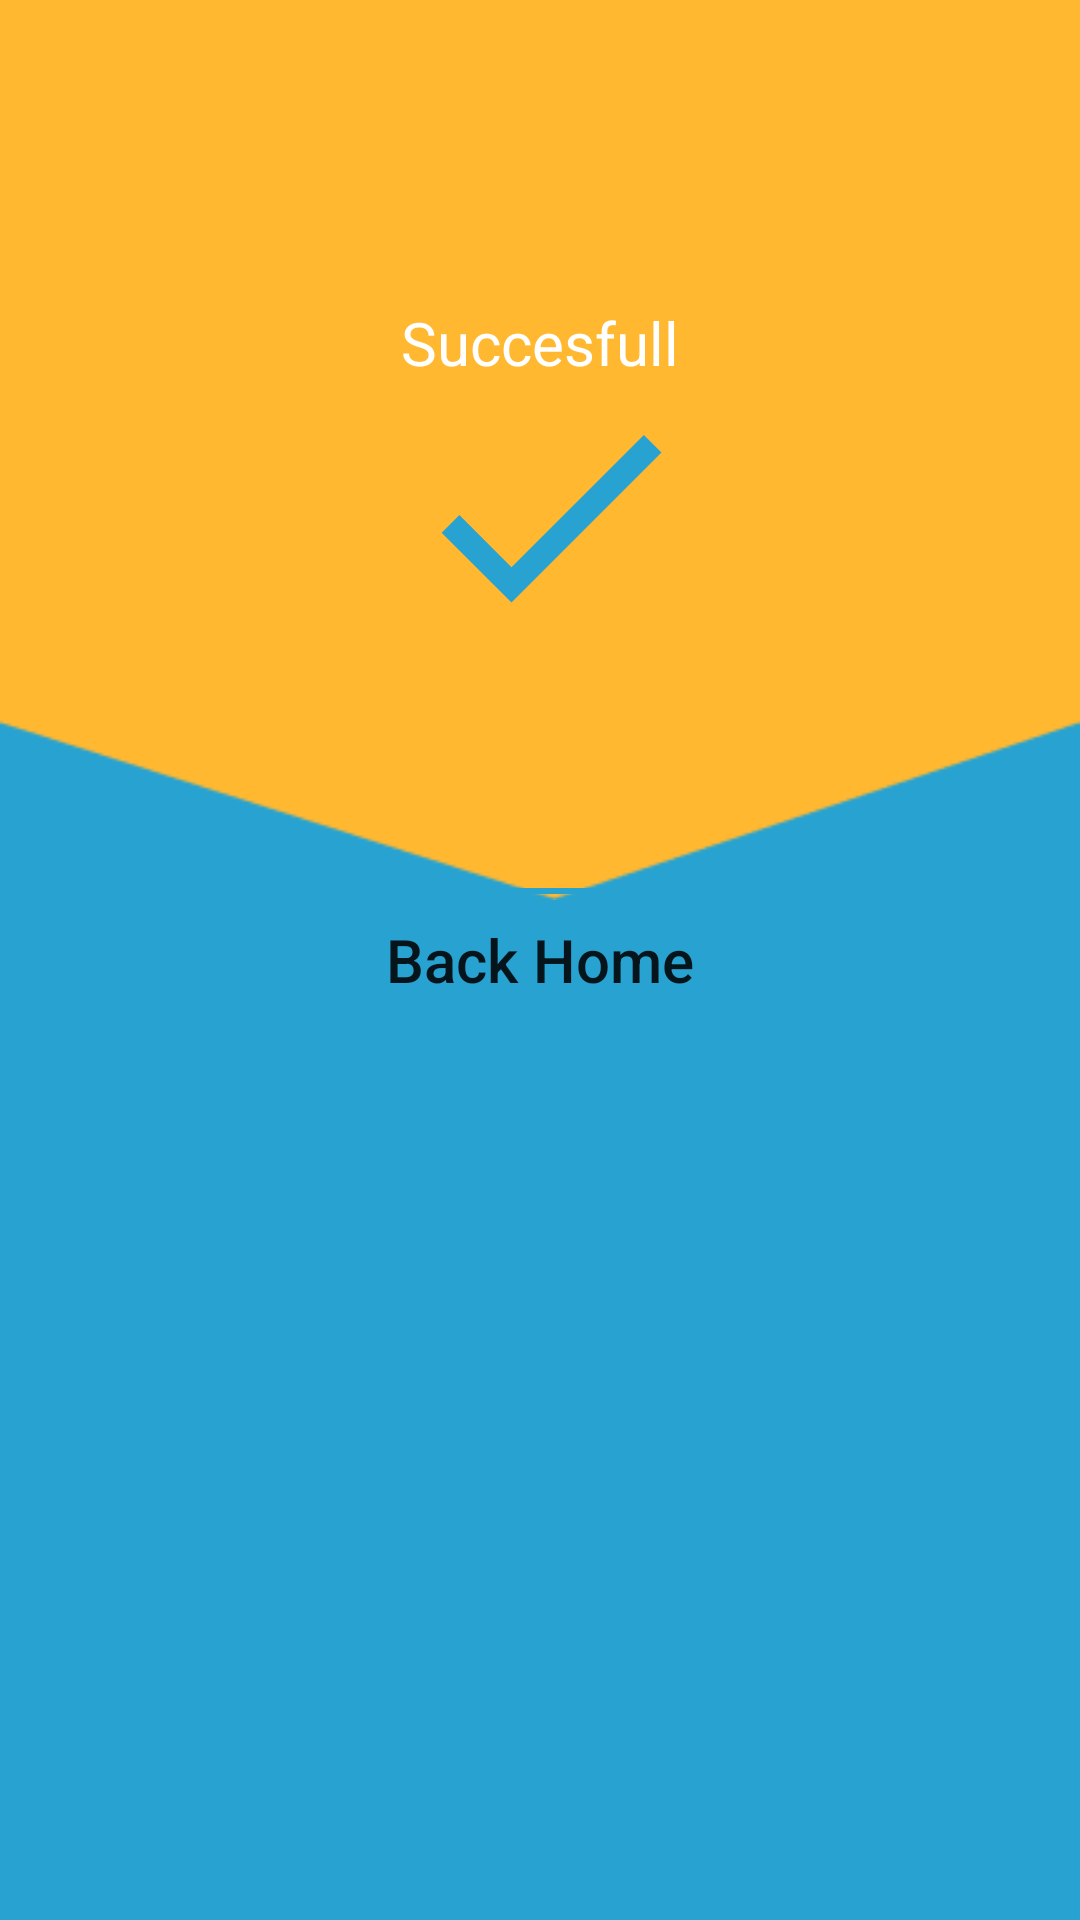

Icons on this 1080px x 1920px Android screen, each with its box as bbox=(x1, y1, x2, y2):
check: bbox=(441, 435, 662, 603)
